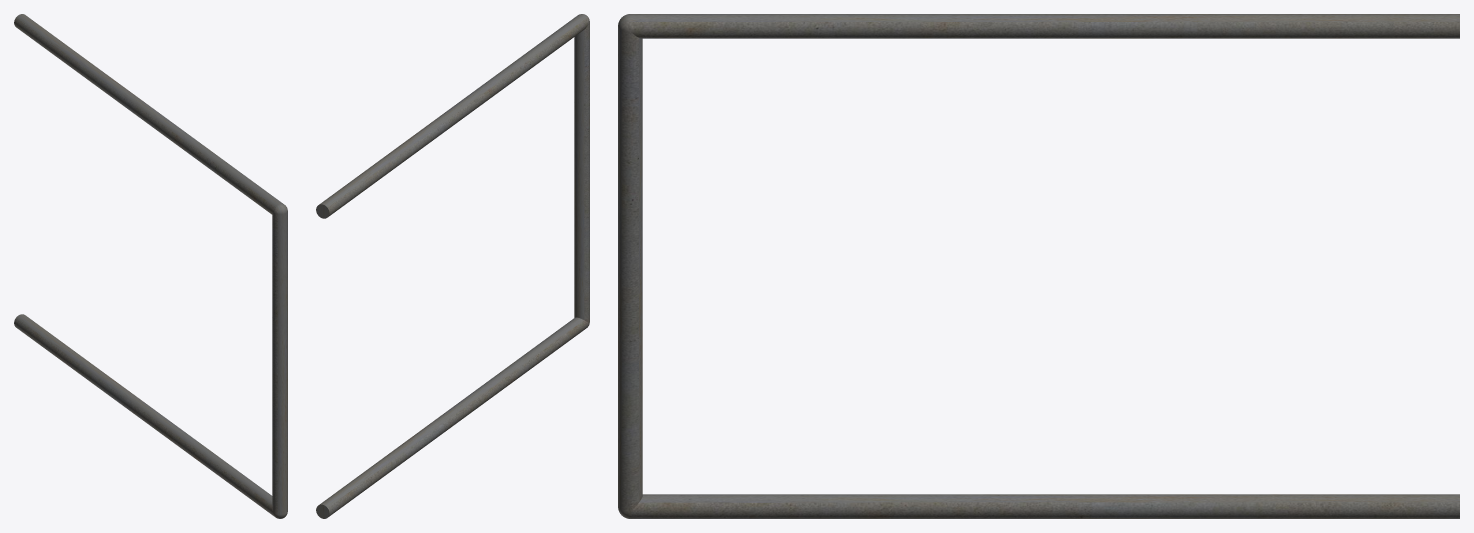
Rendered from push_handle.glb.
3 renders of one model, left to right at view 1: azimuth 30°, elevation 25°; view 2: azimuth 150°, elevation 25°; view 3: azimuth 270°, elevation 25°, orthographic. The views are drawn at different scales.
Parts seen in each view (by area): view 1: world; view 2: world; view 3: world.
Boxes of the visible parts, x1=… form: world: x1=14, y1=14, x2=287, y2=518; world: x1=316, y1=14, x2=589, y2=518; world: x1=618, y1=14, x2=1459, y2=518.
Size of the model in its own units: 25 by 560 by 850.
1 material, 1 textured.
